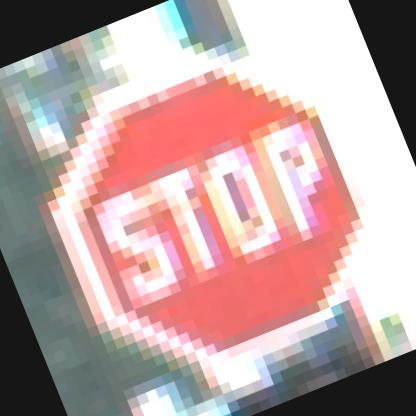stop: (9, 7, 411, 413)
